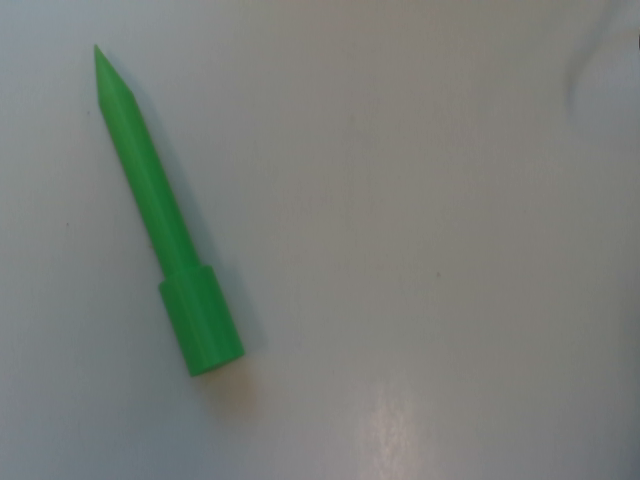Probe: (88, 33, 249, 388)
